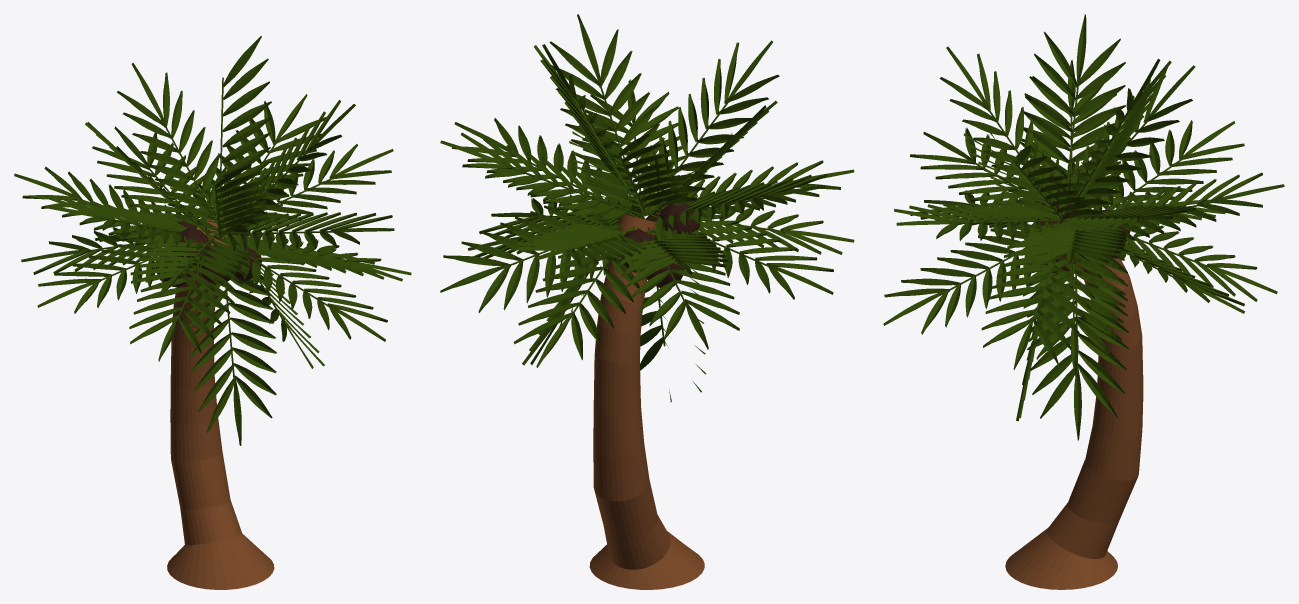
Rendered from tree5.fbx.
The picture shows the model from 3 angles, left to right: view 1: azimuth 30°, elevation 25°; view 2: azimuth 150°, elevation 25°; view 3: azimuth 270°, elevation 25°; orthographic projection. The views are drawn at different scales.
Visible parts, largest first — view 1: Cylinder.002, leaf.004, leaf.015, leaf.007, leaf.023, leaf.011, leaf.009, leaf.018, leaf.012, leaf.019, leaf.005, leaf.014 (+9 smaller); view 2: Cylinder.002, leaf.019, leaf.020, leaf.002, leaf.016, leaf.014, leaf.008, leaf.012, leaf.005, leaf.015, leaf.021, leaf.006 (+11 smaller); view 3: Cylinder.002, leaf.013, leaf.010, leaf.003, leaf.020, leaf.009, leaf.017, leaf.018, leaf.022, leaf.015, leaf.021, leaf.016 (+9 smaller).
Boxes of the visible parts, <box> form: Cylinder.002: <box>167,220,274,589</box>; leaf.004: <box>185,275,276,445</box>; leaf.015: <box>117,63,237,239</box>; leaf.007: <box>129,233,249,361</box>; leaf.023: <box>219,36,271,218</box>; leaf.011: <box>130,232,251,297</box>; leaf.009: <box>230,244,387,341</box>; leaf.018: <box>216,212,394,251</box>; leaf.012: <box>37,229,212,313</box>; leaf.019: <box>221,100,355,237</box>; leaf.005: <box>224,144,393,231</box>; leaf.014: <box>192,94,326,231</box>; Cylinder.002: <box>589,214,704,589</box>; leaf.019: <box>549,14,673,212</box>; leaf.020: <box>641,40,779,217</box>; leaf.002: <box>440,195,636,312</box>; leaf.016: <box>513,214,661,367</box>; leaf.014: <box>440,132,643,221</box>; leaf.008: <box>611,213,739,349</box>; leaf.012: <box>646,210,833,299</box>; leaf.005: <box>451,118,635,217</box>; leaf.015: <box>569,124,688,211</box>; leaf.021: <box>511,224,662,266</box>; leaf.006: <box>649,174,827,230</box>; Cylinder.002: <box>1005,218,1143,589</box>; leaf.013: <box>1020,14,1125,219</box>; leaf.010: <box>981,241,1105,370</box>; leaf.003: <box>1026,235,1128,440</box>; leaf.020: <box>939,46,1066,216</box>; leaf.009: <box>883,224,1056,334</box>; leaf.017: <box>1022,217,1125,375</box>; leaf.018: <box>894,201,1070,241</box>; leaf.022: <box>1090,120,1244,221</box>; leaf.015: <box>1062,65,1195,217</box>; leaf.021: <box>1105,172,1284,242</box>; leaf.016: <box>1119,225,1277,301</box>.
Size of the model in its own units: 624 by 854 by 583.
